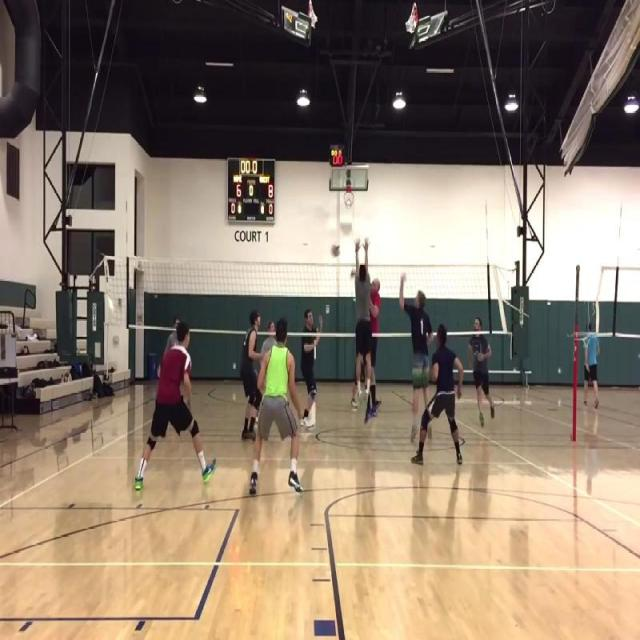volleyball: (331, 244, 338, 258)
